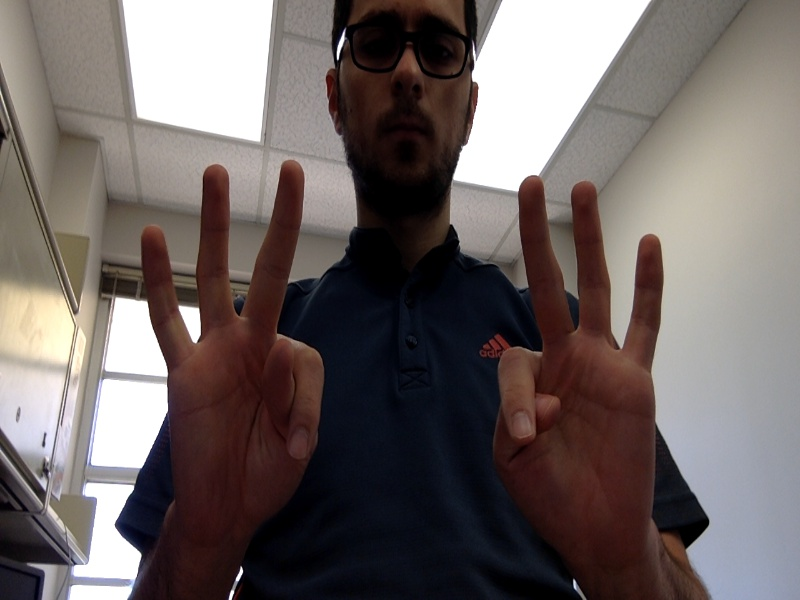3-hand: (142, 159, 323, 526), (496, 175, 663, 557)
